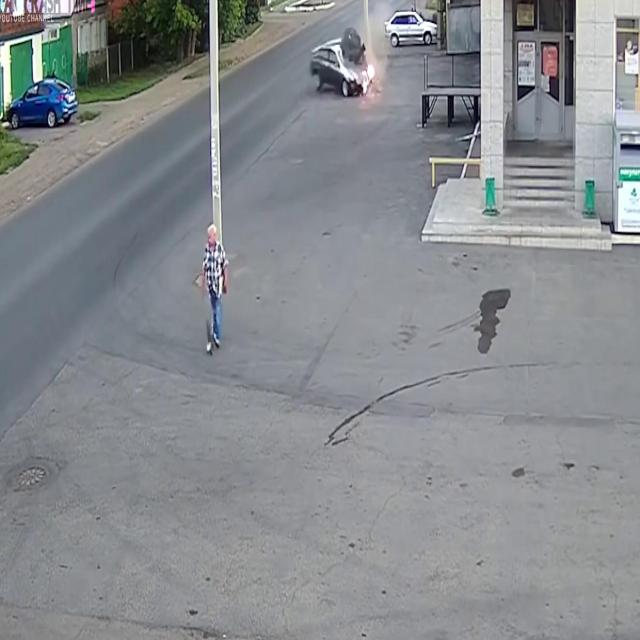accident: (298, 16, 382, 120)
